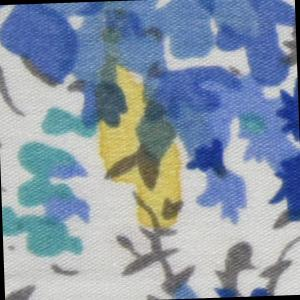Oil Stain: (87, 7, 189, 240)
